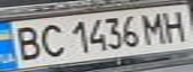1: (66, 18, 90, 55)
3: (103, 15, 124, 51)
4: (87, 16, 109, 53)
6: (118, 12, 145, 48)
B: (6, 23, 45, 62)
C: (36, 21, 66, 59)
H: (157, 7, 190, 43)
M: (139, 10, 172, 45)
